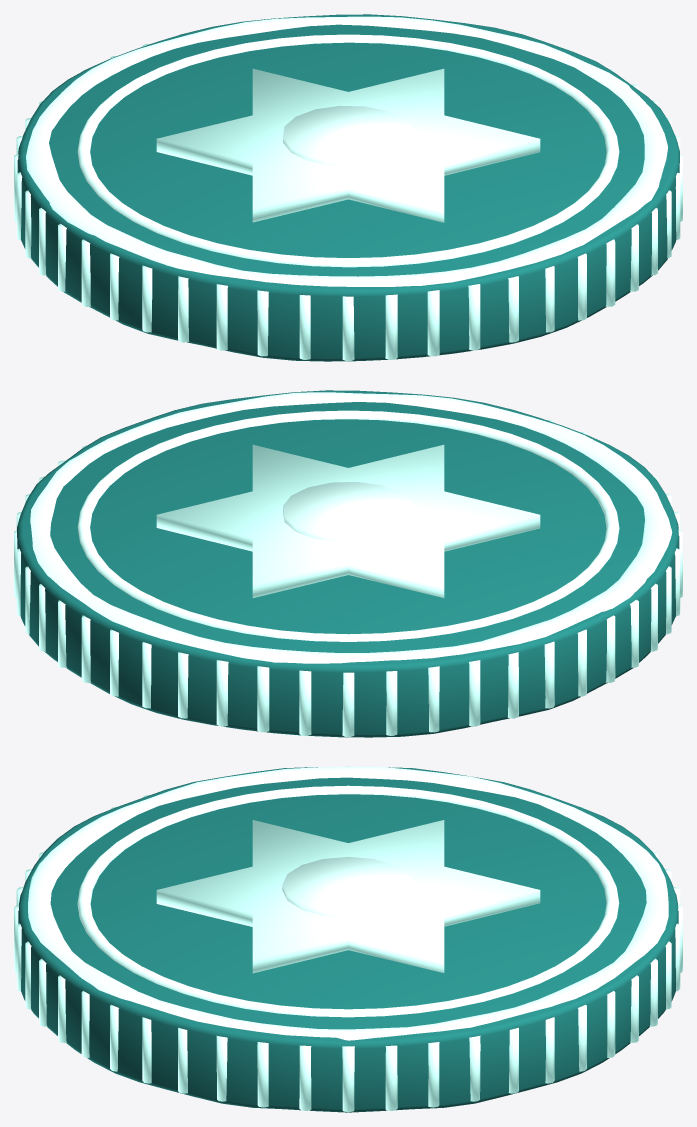
File: token-glass_sovereign.glb
The picture shows the model from 3 angles, top to bottom: view 1: azimuth 30°, elevation 25°; view 2: azimuth 150°, elevation 25°; view 3: azimuth 270°, elevation 25°; orthographic projection.
Visible parts, largest first — view 1: TokenBody, TopRim, Cylinder.001, Cylinder, TopRim_Inner, Cylinder.002, EdgeReed_34, EdgeReed_33, EdgeReed_35, EdgeReed_32, EdgeReed_29, EdgeReed_31 (+11 smaller); view 2: TokenBody, TopRim, Cylinder, TopRim_Inner, Cylinder.001, Cylinder.002, EdgeReed_14, EdgeReed_15, EdgeReed_13, EdgeReed_16, EdgeReed_19, EdgeReed_17 (+11 smaller); view 3: TokenBody, TopRim, Cylinder, Cylinder.001, TopRim_Inner, Cylinder.002, EdgeReed_0, EdgeReed_1, EdgeReed_47, EdgeReed_2, EdgeReed_46, EdgeReed_3 (+12 smaller).
Boxes of the visible parts, x1,y1,x2,y2 form: TokenBody: (17,14,679,361); TopRim: (26,16,667,286); Cylinder.001: (156,68,444,222); Cylinder: (252,68,540,222); TopRim_Inner: (77,34,619,267); Cylinder.002: (283,105,413,166); EdgeReed_34: (427,290,439,356); EdgeReed_33: (385,294,397,359); EdgeReed_35: (468,284,480,350); EdgeReed_32: (342,296,354,360); EdgeReed_29: (216,284,227,350); EdgeReed_31: (299,295,310,359); TokenBody: (17,390,679,737); TopRim: (30,392,672,663); Cylinder: (252,444,540,597); TopRim_Inner: (77,410,619,641); Cylinder.001: (156,444,444,597); Cylinder.002: (283,482,413,542); EdgeReed_14: (257,666,269,732); EdgeReed_15: (299,670,311,735); EdgeReed_13: (216,660,228,726); EdgeReed_16: (342,672,354,737); EdgeReed_19: (469,660,480,726); EdgeReed_17: (386,671,397,735); TokenBody: (18,767,678,1112); TopRim: (28,766,668,1040); Cylinder: (252,820,540,973); Cylinder.001: (156,820,444,972); TopRim_Inner: (77,785,619,1017); Cylinder.002: (282,856,414,917); EdgeReed_0: (342,1046,354,1112); EdgeReed_1: (385,1045,397,1110); EdgeReed_47: (299,1045,311,1110); EdgeReed_2: (428,1042,439,1107); EdgeReed_46: (257,1042,268,1107); EdgeReed_3: (469,1035,480,1101).
Bounding box in the file's own units: 2.02 × 0.3646 × 2.02.
